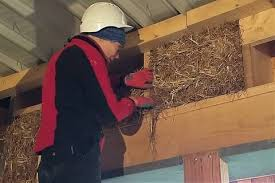casque: (56, 1, 150, 154)
